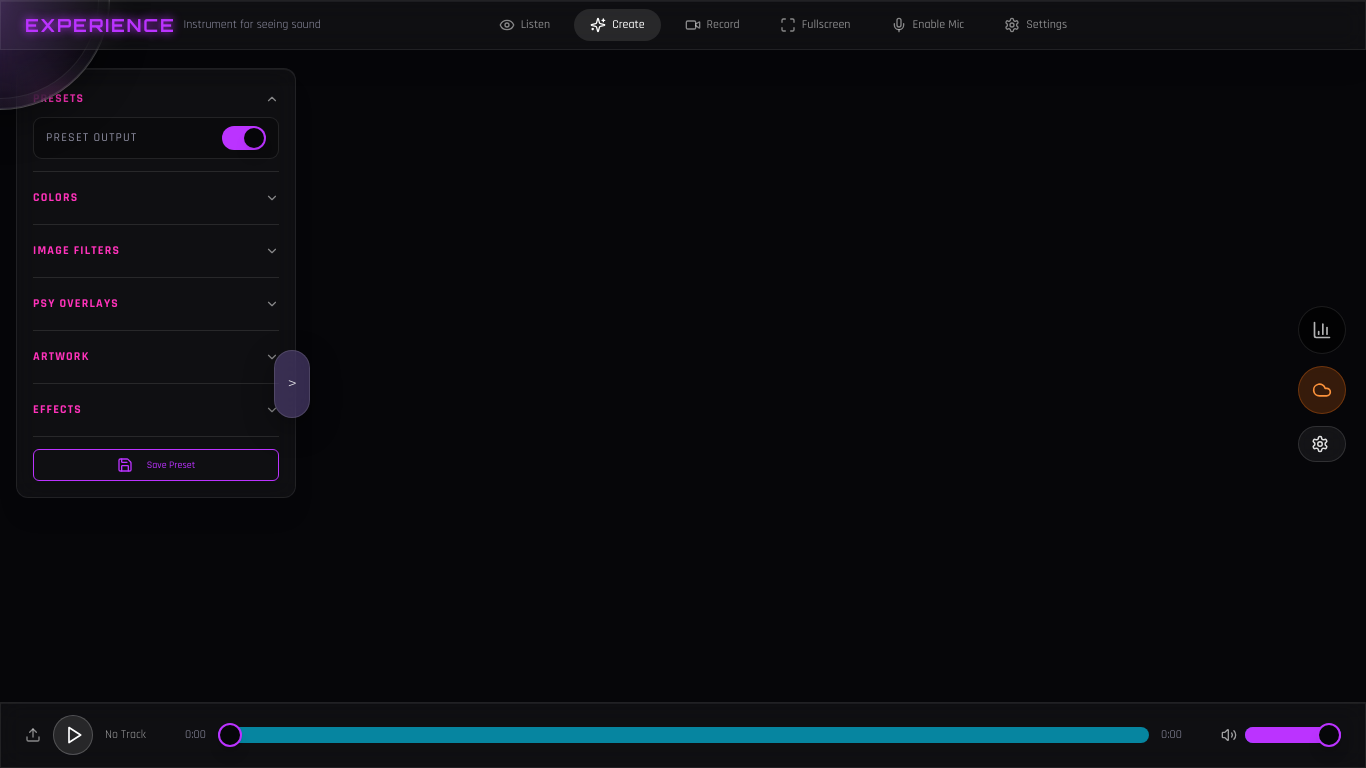
UIControls › Dark Overlay toggle › renders Dark Overlay toggle after opening Effects section
This screenshot has width=1366, height=768.
Click the button "Effects": coordinates (156, 410) x1=33 y1=396 x2=279 y2=424
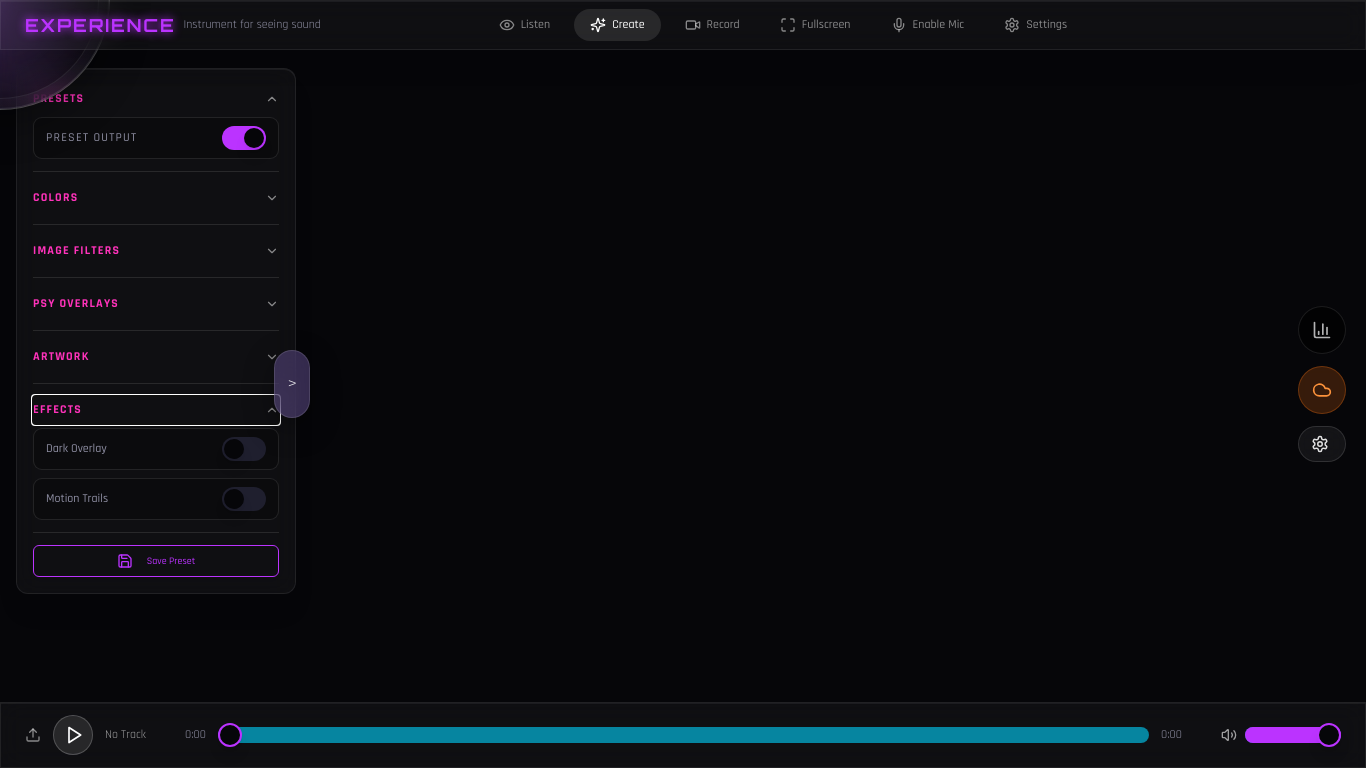
Result: the switch with test id "toggle-dark-overlay" is shown at x1=222 y1=437 x2=266 y2=461
